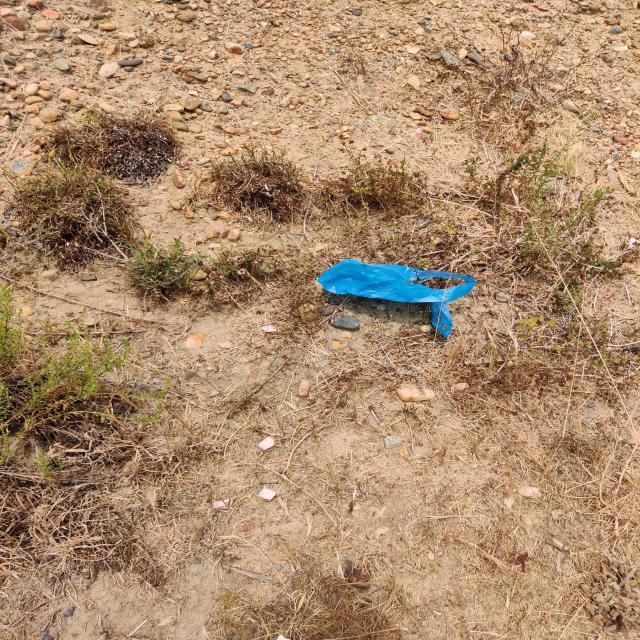litter: (273, 217, 490, 345)
